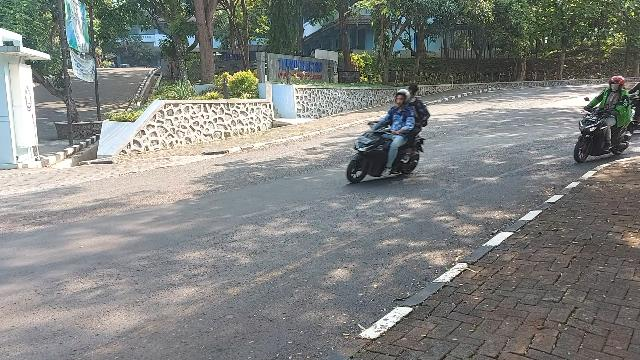helm: (610, 77, 626, 93), (397, 90, 412, 106)
motor: (347, 121, 425, 183), (576, 99, 637, 164)
non-helm: (409, 85, 419, 97)
